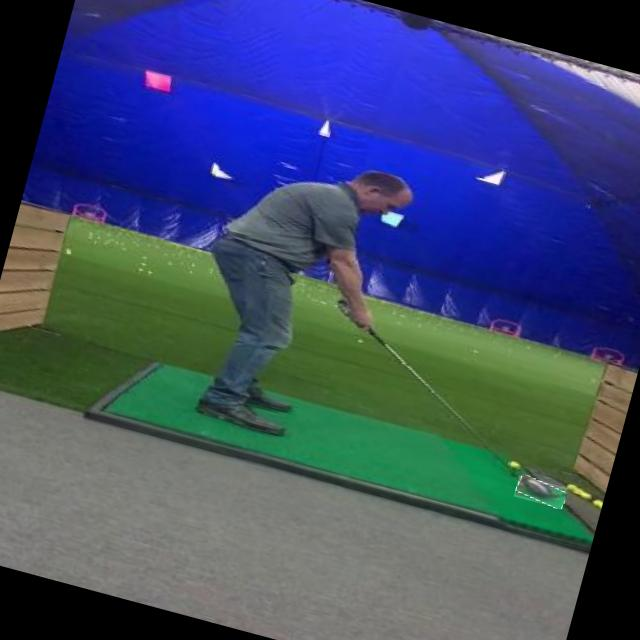club head: (514, 475, 568, 509)
